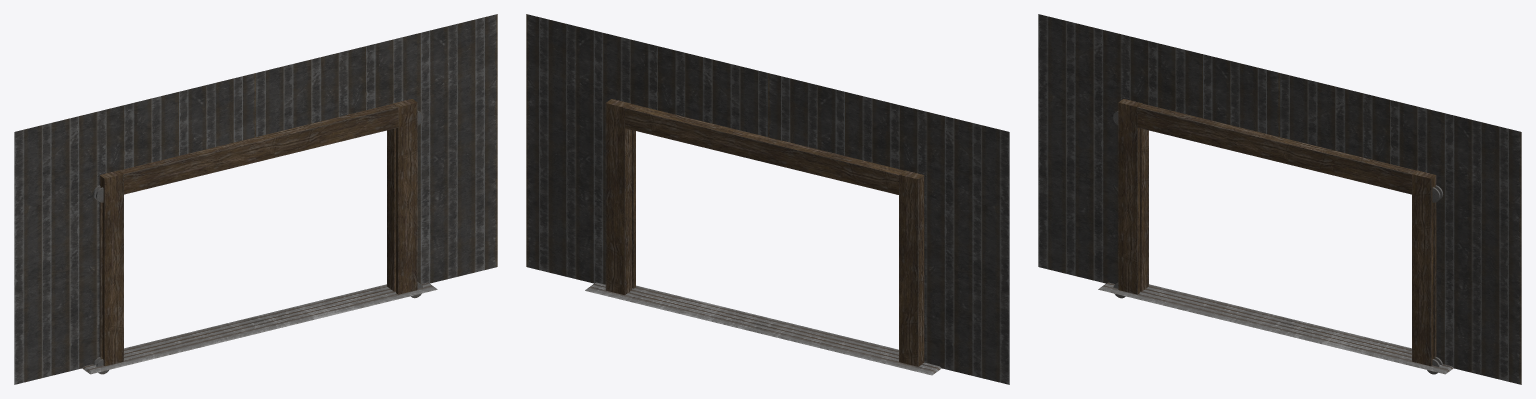
File: Doorframe_large.fbx
3 views of the same model, side by side, from view 1: azimuth 30°, elevation 25°; view 2: azimuth 150°, elevation 25°; view 3: azimuth 330°, elevation 25° (orthographic).
Visible parts, largest first — view 1: Doorframe_large; view 2: Doorframe_large; view 3: Doorframe_large.
Boxes of the visible parts, left/top/right/bottom form: Doorframe_large: left=14, top=14, right=497, bottom=384; Doorframe_large: left=526, top=14, right=1009, bottom=384; Doorframe_large: left=1038, top=14, right=1521, bottom=384.
Size of the model in its own units: 800 by 412 by 51.53.
